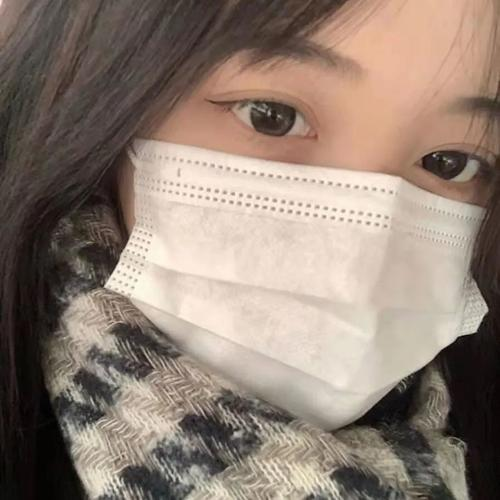mask: (115, 11, 492, 392)
